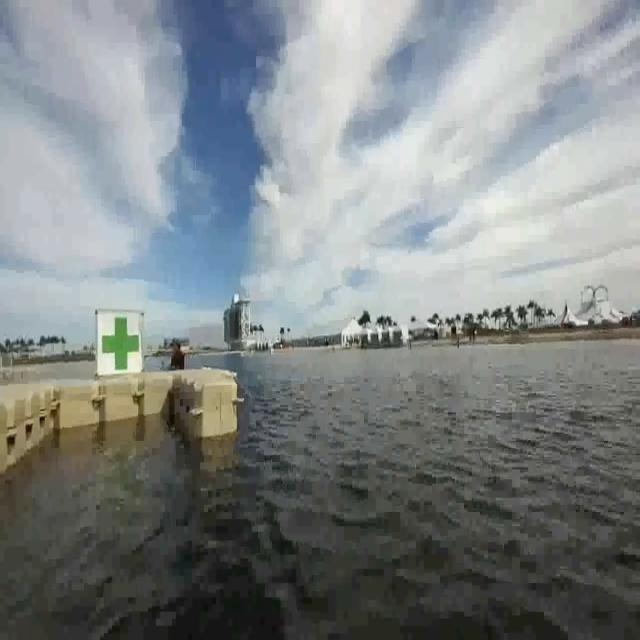blue-cross: (97, 311, 145, 375)
